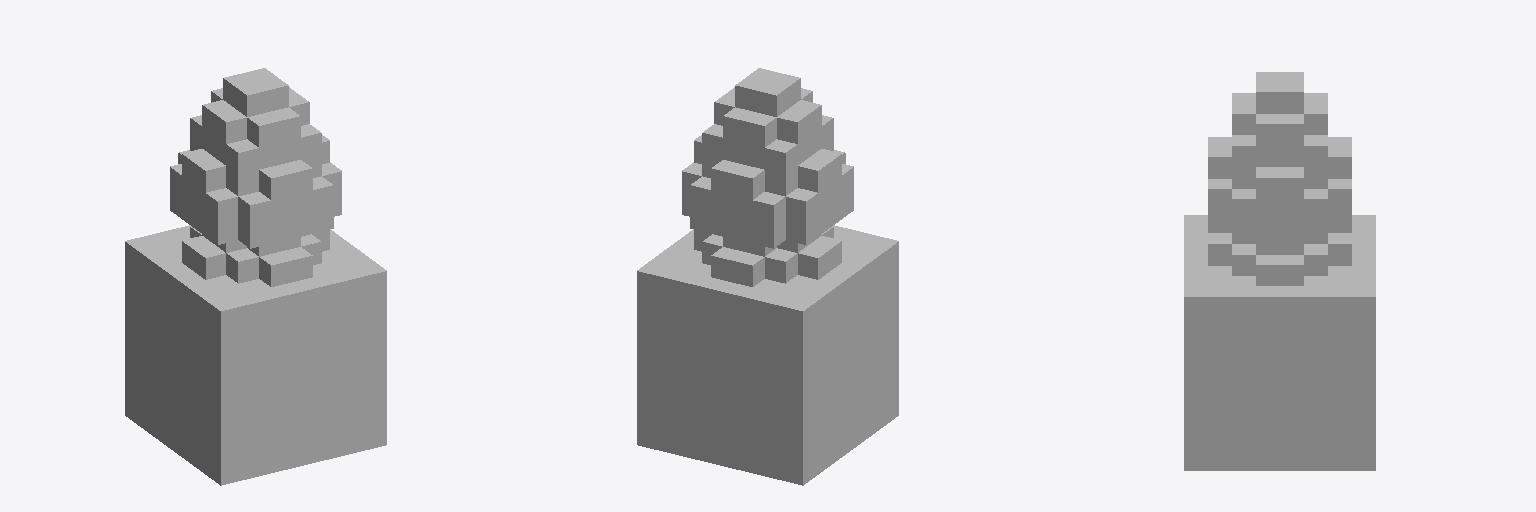
Rendered from Tree1.obj.
3 renders of one model, left to right at view 1: azimuth 30°, elevation 25°; view 2: azimuth 150°, elevation 25°; view 3: azimuth 270°, elevation 25°, orthographic.
Visible parts, largest first — view 1: object 1; view 2: object 1; view 3: object 1.
Boxes of the visible parts, x1,y1,x2,y2 form: object 1: [125, 68, 386, 485]; object 1: [637, 68, 898, 485]; object 1: [1184, 72, 1375, 470].
Bounding box in the file's own units: 0.8 × 1.6 × 0.8.